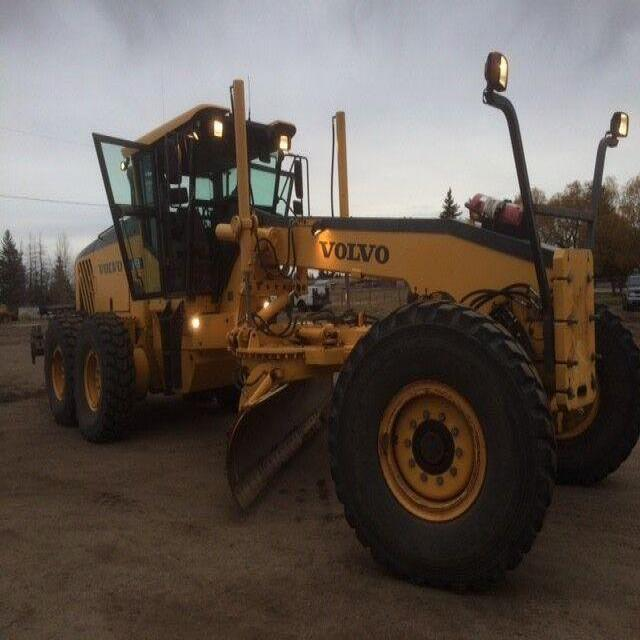Grader: (31, 80, 639, 579)
